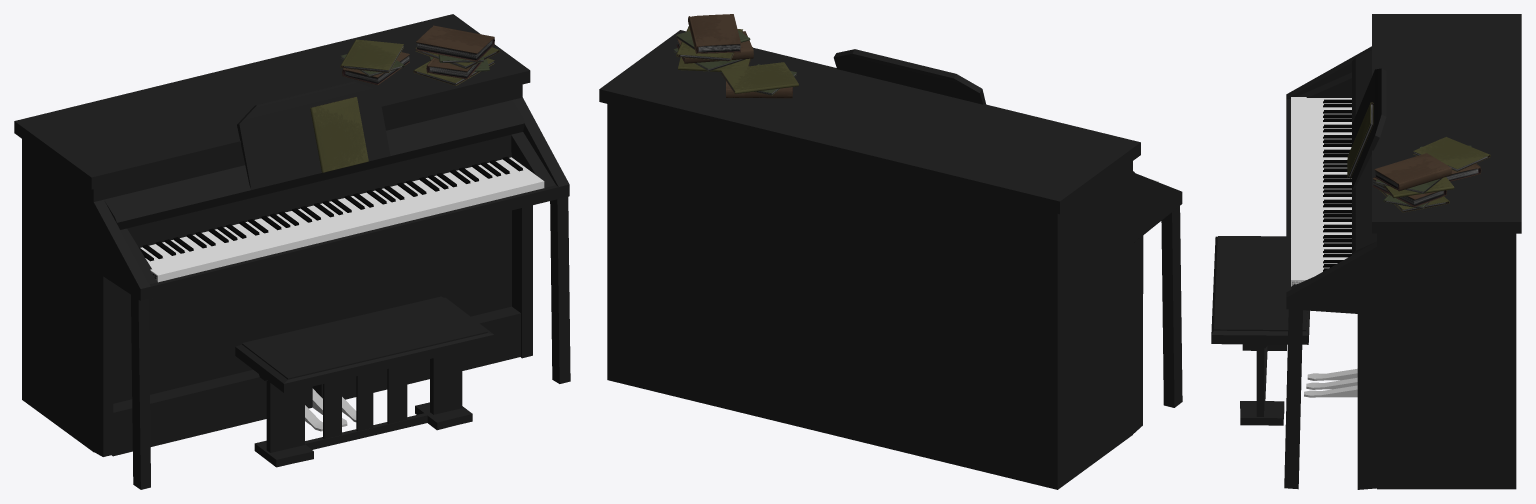
Rendered from Piano02.fbx.
The picture shows the model from 3 angles, left to right: view 1: azimuth 30°, elevation 25°; view 2: azimuth 150°, elevation 25°; view 3: azimuth 270°, elevation 25°; orthographic projection. The views are drawn at different scales.
Visible parts, largest first — view 1: pCube50, pCube56, pCube51, pCube143, pCube120, pCube57, pCube122, pCube121; view 2: pCube50, pCube121, pCube122; view 3: pCube50, pCube56, pCube51, pCube143, pCube121 (×2), pCube122, pCube57, pCube120.
Boxes of the visible parts, left/top/right/bottom form: pCube50: left=14, top=14, right=570, bottom=489; pCube56: left=235, top=296, right=494, bottom=452; pCube51: left=140, top=157, right=544, bottom=282; pCube143: left=139, top=157, right=522, bottom=280; pCube120: left=310, top=97, right=368, bottom=172; pCube57: left=254, top=402, right=472, bottom=467; pCube122: left=416, top=25, right=494, bottom=61; pCube121: left=340, top=39, right=403, bottom=72; pCube50: left=599, top=30, right=1182, bottom=489; pCube121: left=721, top=62, right=798, bottom=93; pCube122: left=688, top=14, right=740, bottom=53; pCube50: left=1284, top=14, right=1521, bottom=489; pCube56: left=1211, top=236, right=1309, bottom=416; pCube51: left=1291, top=97, right=1351, bottom=286; pCube143: left=1292, top=99, right=1351, bottom=285; pCube121 (×2): left=1382, top=137, right=1490, bottom=198; pCube122: left=1374, top=153, right=1451, bottom=191; pCube57: left=1240, top=344, right=1286, bottom=425; pCube120: left=1347, top=102, right=1373, bottom=178.
Size of the model in its own units: 7.42 by 5.01 by 4.68.
